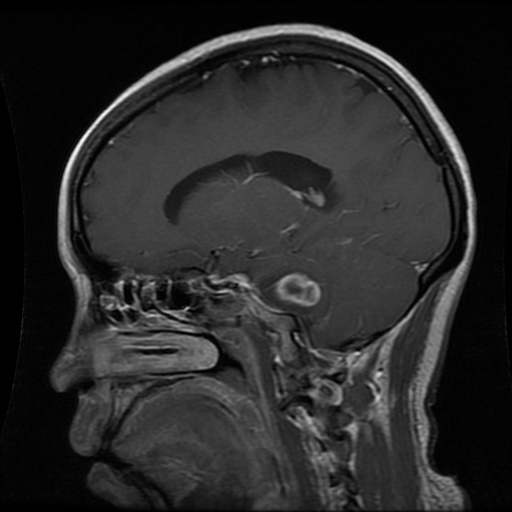glioma: (275, 275, 318, 308)
